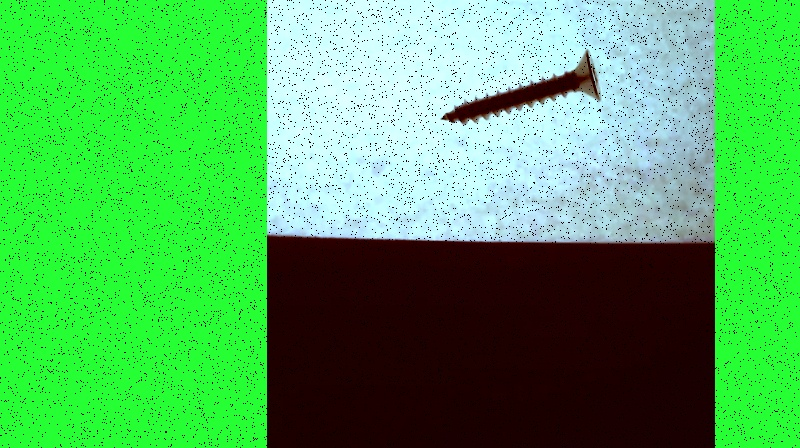S001: (437, 44, 602, 126)
